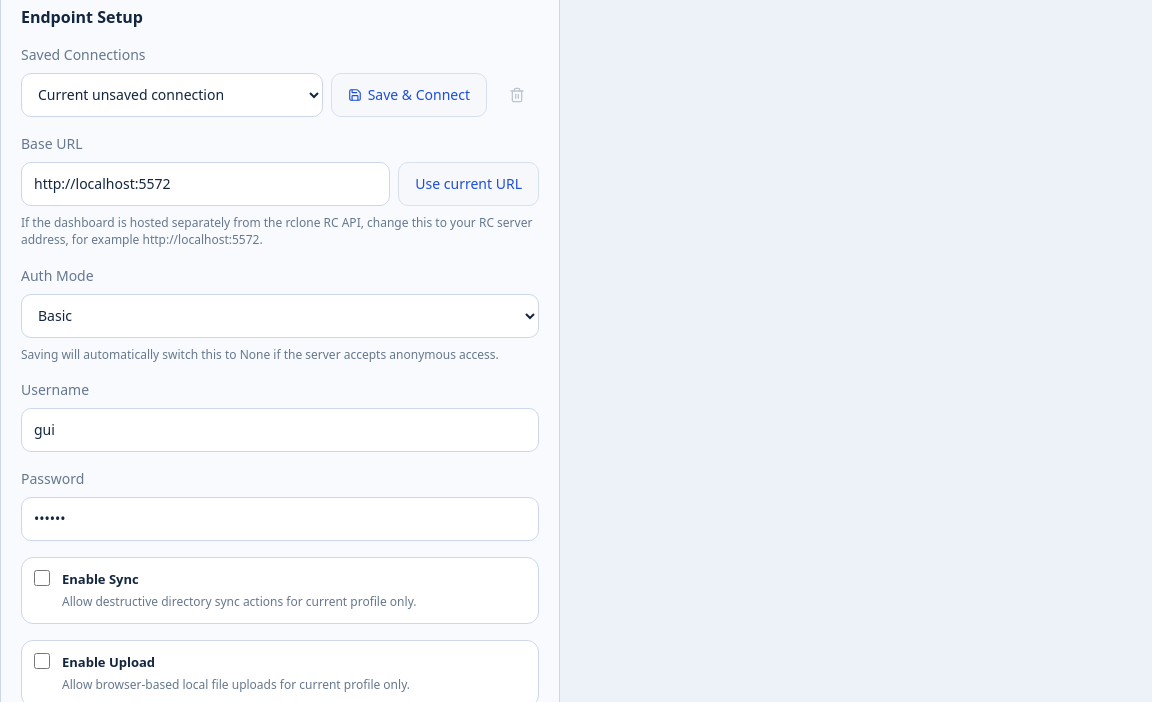
Test case: ConnectPage › validates the current draft and updates runtime connection state
Click the checkbox labelled "Enable Upload" at [42, 661], box 34,653 -> 50,669
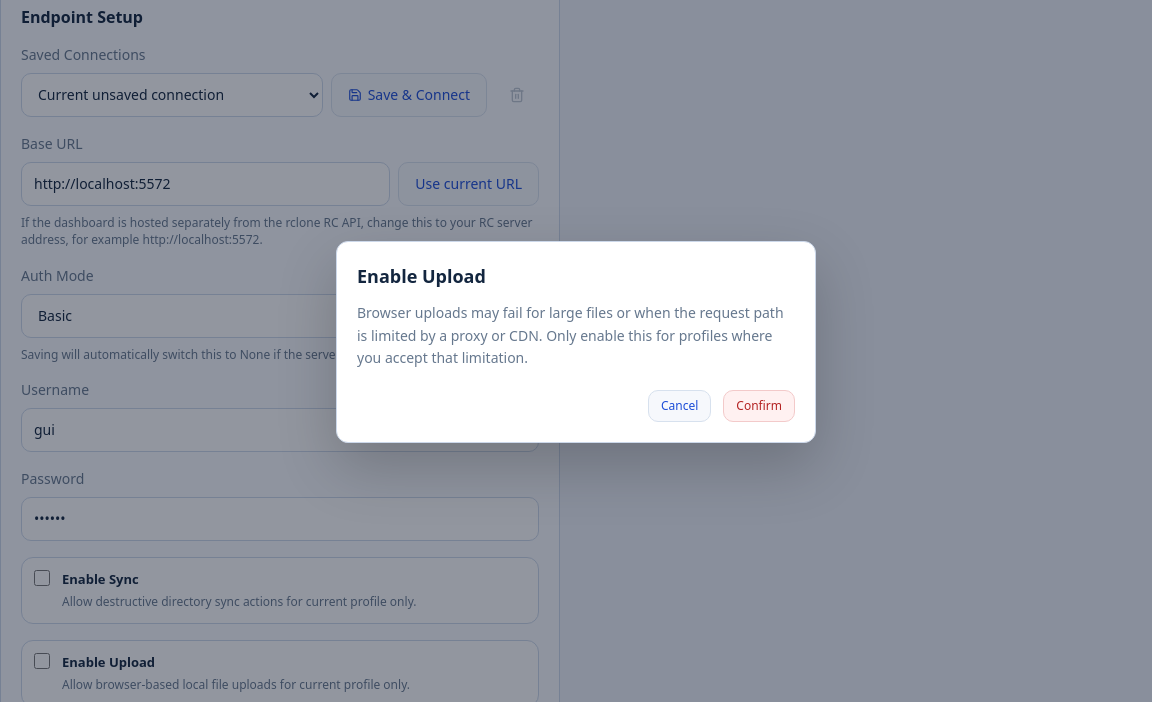
Click the button "Confirm" at [759, 406], box 723,390 -> 795,422
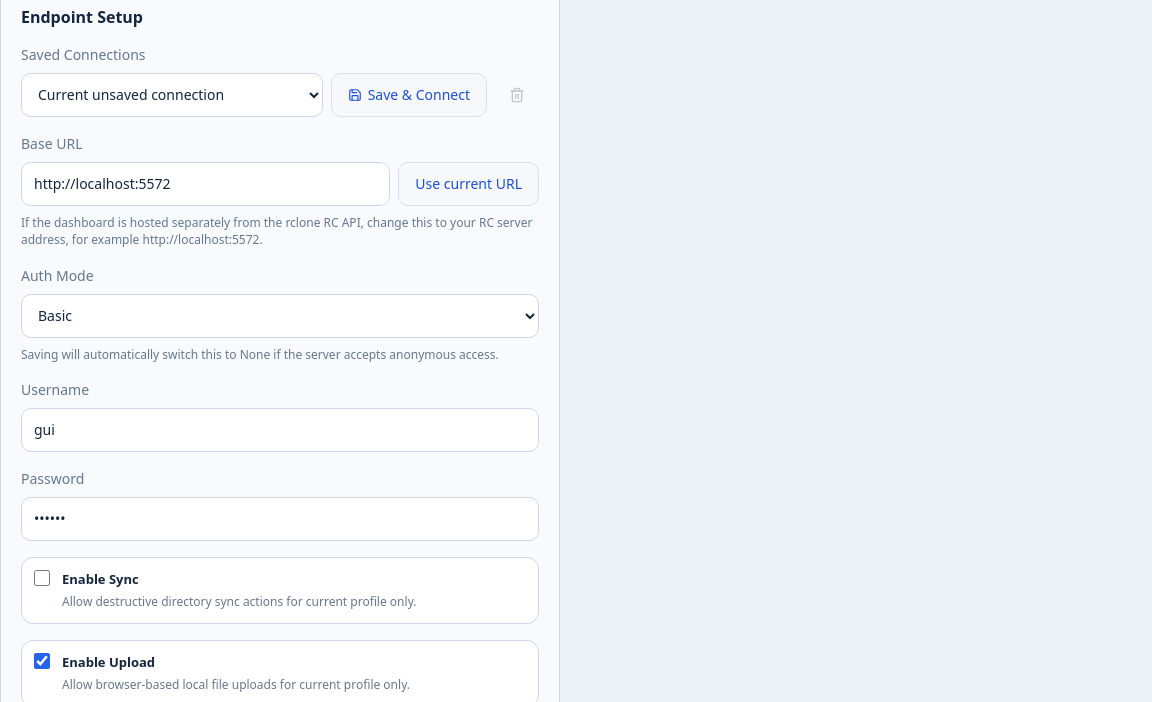
Check: the checkbox labelled "Enable Upload" is checked, box 34,653 -> 50,669
Click the button "Save & Connect" at [409, 95], box 331,73 -> 487,117
(page scrolled)
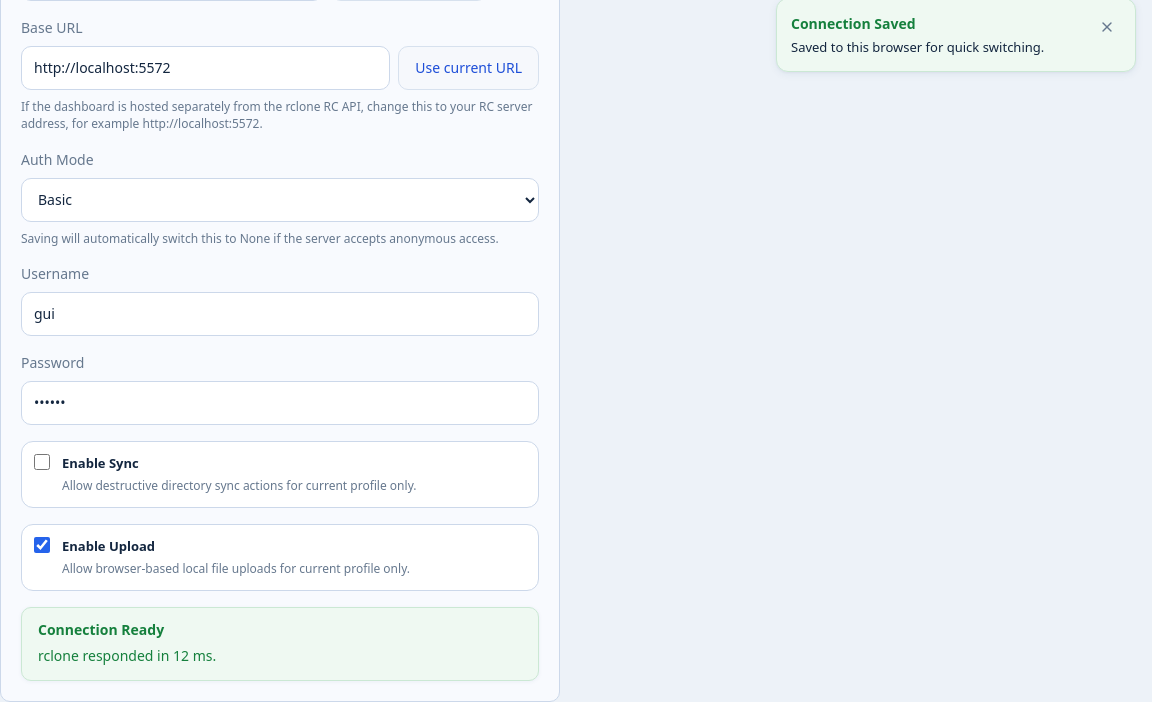
Check: the heading "Connection Ready" is shown, box 38,620 -> 164,639
Check: the text "rclone responded in 12 ms." is shown, box 38,646 -> 216,665
